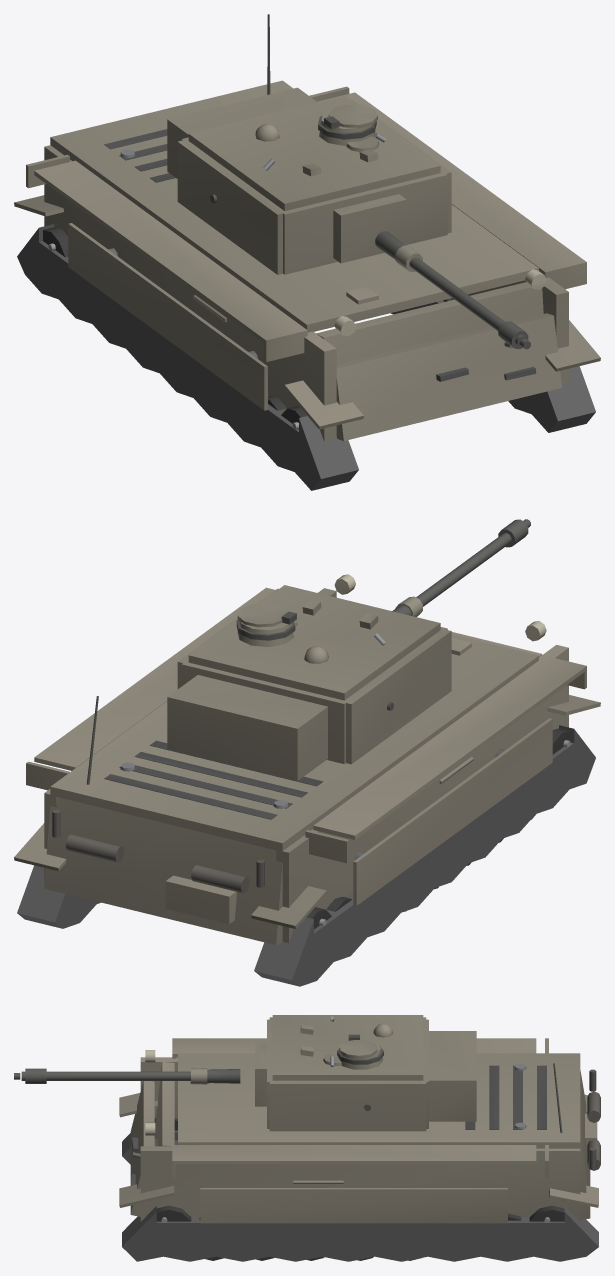
File: merkava4.glb
3 renders of one model, top to bottom at view 1: azimuth 30°, elevation 25°; view 2: azimuth 150°, elevation 25°; view 3: azimuth 270°, elevation 25°, orthographic. The views are drawn at different scales.
Visible parts, largest first — view 1: hullSide, hullTop, tracks, turretRoof, lowerPlate, turretFront, glacis, turretSide, mantlet, barrel; view 2: hullSide, hullTop, hullRear, tracks, turretRoof, turretFront, turretSide, turretRear, barrel; view 3: hullSide, tracks, hullTop, turretRoof, turretSide, turretFront, barrel, hullRear, lowerPlate, glacis, mantlet, turretRear (+2 smaller).
Part boxes in pixels (left/top/right/bottom): hullSide: left=26, top=86, right=586, bottom=441; hullTop: left=50, top=80, right=538, bottom=332; tracks: left=14, top=195, right=600, bottom=490; turretRoof: left=188, top=95, right=440, bottom=210; lowerPlate: left=336, top=313, right=561, bottom=440; turretFront: left=167, top=87, right=447, bottom=274; glacis: left=316, top=282, right=543, bottom=381; turretSide: left=177, top=99, right=451, bottom=274; mantlet: left=333, top=194, right=406, bottom=263; barrel: left=375, top=231, right=530, bottom=349; hullSide: left=26, top=574, right=586, bottom=942; hullTop: left=50, top=634, right=538, bottom=851; hullRear: left=44, top=696, right=282, bottom=944; tracks: left=14, top=695, right=600, bottom=986; turretRoof: left=188, top=585, right=440, bottom=700; turretFront: left=167, top=627, right=447, bottom=780; turretSide: left=177, top=588, right=451, bottom=764; turretRear: left=181, top=660, right=346, bottom=764; barrel: left=392, top=519, right=530, bottom=616; hullSide: left=140, top=1038, right=580, bottom=1223; tracks: left=119, top=1093, right=598, bottom=1261; hullTop: left=178, top=1053, right=580, bottom=1148; turretRoof: left=272, top=1015, right=423, bottom=1080; turretSide: left=269, top=1017, right=426, bottom=1131; turretFront: left=267, top=1019, right=476, bottom=1128; barrel: left=14, top=1068, right=240, bottom=1084; hullRear: left=553, top=1063, right=600, bottom=1219; lowerPlate: left=130, top=1081, right=154, bottom=1216; glacis: left=131, top=1062, right=209, bottom=1185; mantlet: left=255, top=1043, right=266, bottom=1106; turretRear: left=419, top=1019, right=428, bottom=1128.
Size of the model in its own units: 4.63 by 3.21 by 9.35.
